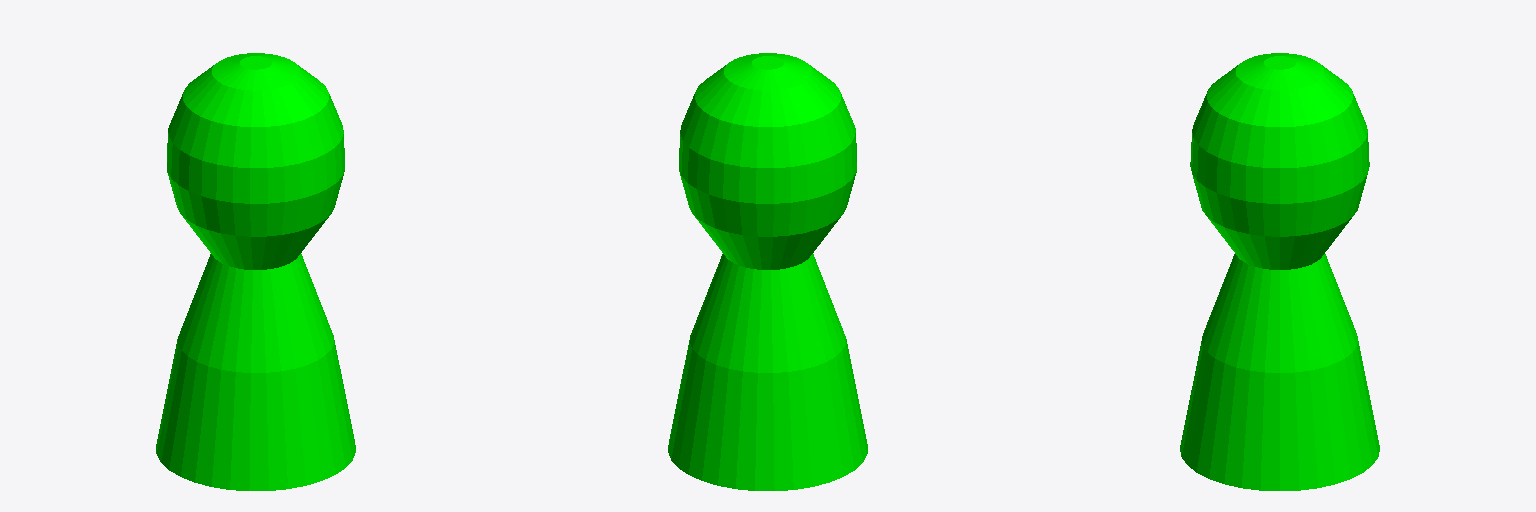
The model's file is green_pawn.obj.
The picture shows the model from 3 angles: view 1: azimuth 30°, elevation 25°; view 2: azimuth 150°, elevation 25°; view 3: azimuth 270°, elevation 25°; orthographic projection.
Parts seen in each view (by area): view 1: Circle; view 2: Circle; view 3: Circle.
Boxes of the visible parts, x1,y1,x2,y2 form: Circle: [156, 53, 355, 490]; Circle: [668, 53, 867, 490]; Circle: [1180, 53, 1379, 490].
Size of the model in its own units: 1.4 by 2.98 by 1.4.